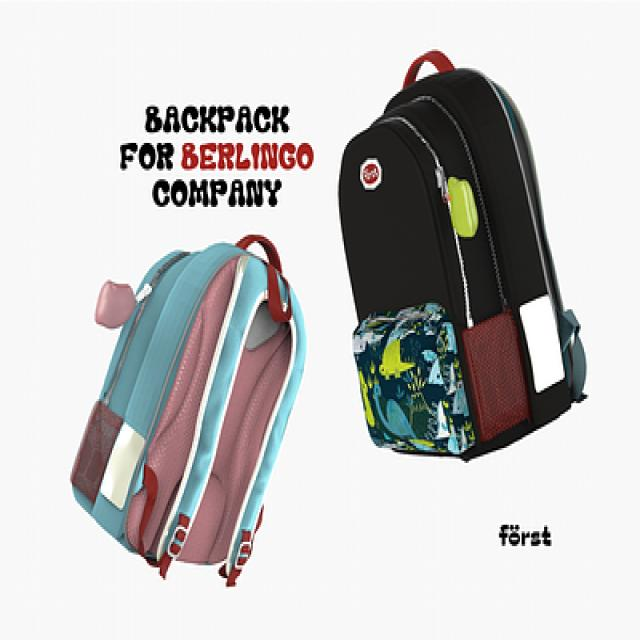backpack: (331, 46, 597, 467), (70, 234, 307, 588)
